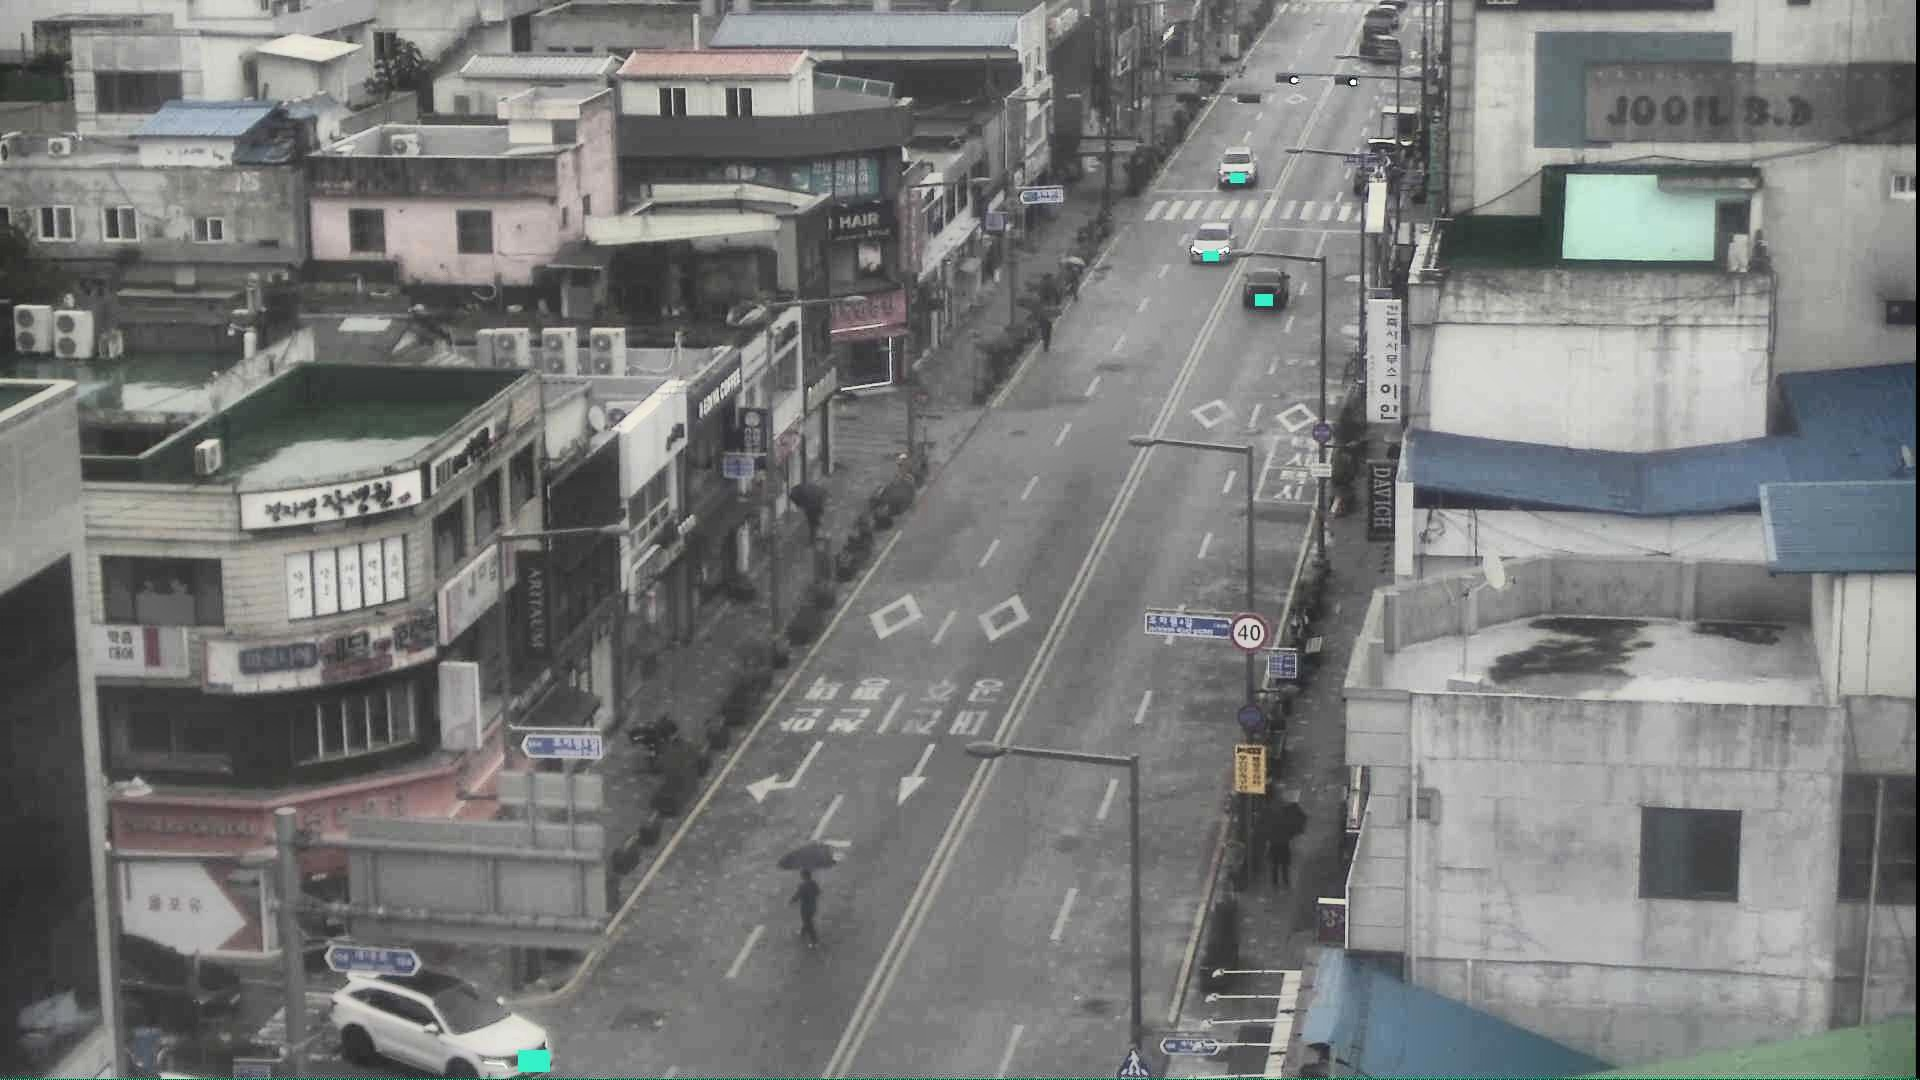um_jaywalk: (779, 843, 840, 944), (1030, 305, 1063, 357), (1059, 257, 1087, 310)
um_sidewalk: (1258, 803, 1309, 889), (790, 479, 831, 545)
